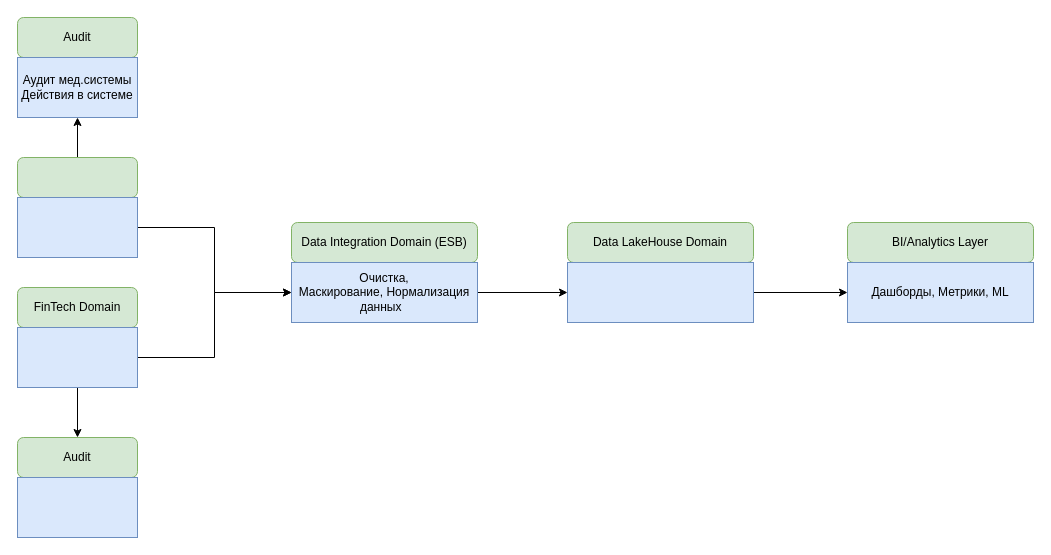
Some shapes in this 1051 by 555 pixel diagram are drawn without their labels. The box of each missing label's shape, as (x1, y1, x2, y2) in pixels:
Medical Domain: (16, 156, 138, 198)
Аудит фин.системы Действия в системе: (16, 476, 138, 538)
Мед.данные, Фин.данные, BI/ML: (566, 262, 754, 322)
Платежи, Счета: (16, 326, 138, 388)
Приёмы, Анализы, Расписания: (16, 196, 138, 258)
